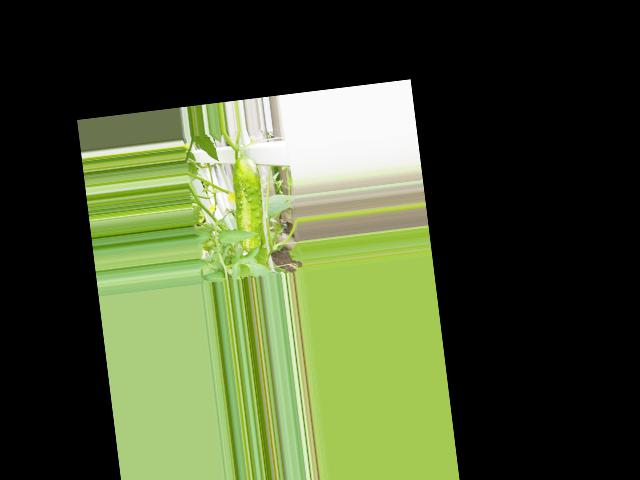cucumber: (230, 154, 268, 252)
